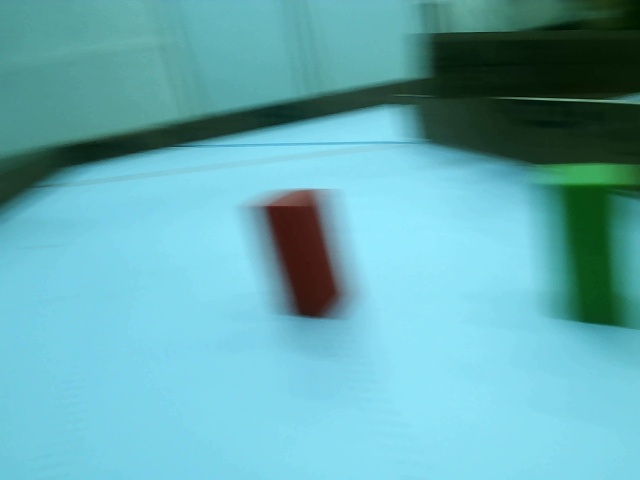red: (263, 200, 352, 317)
